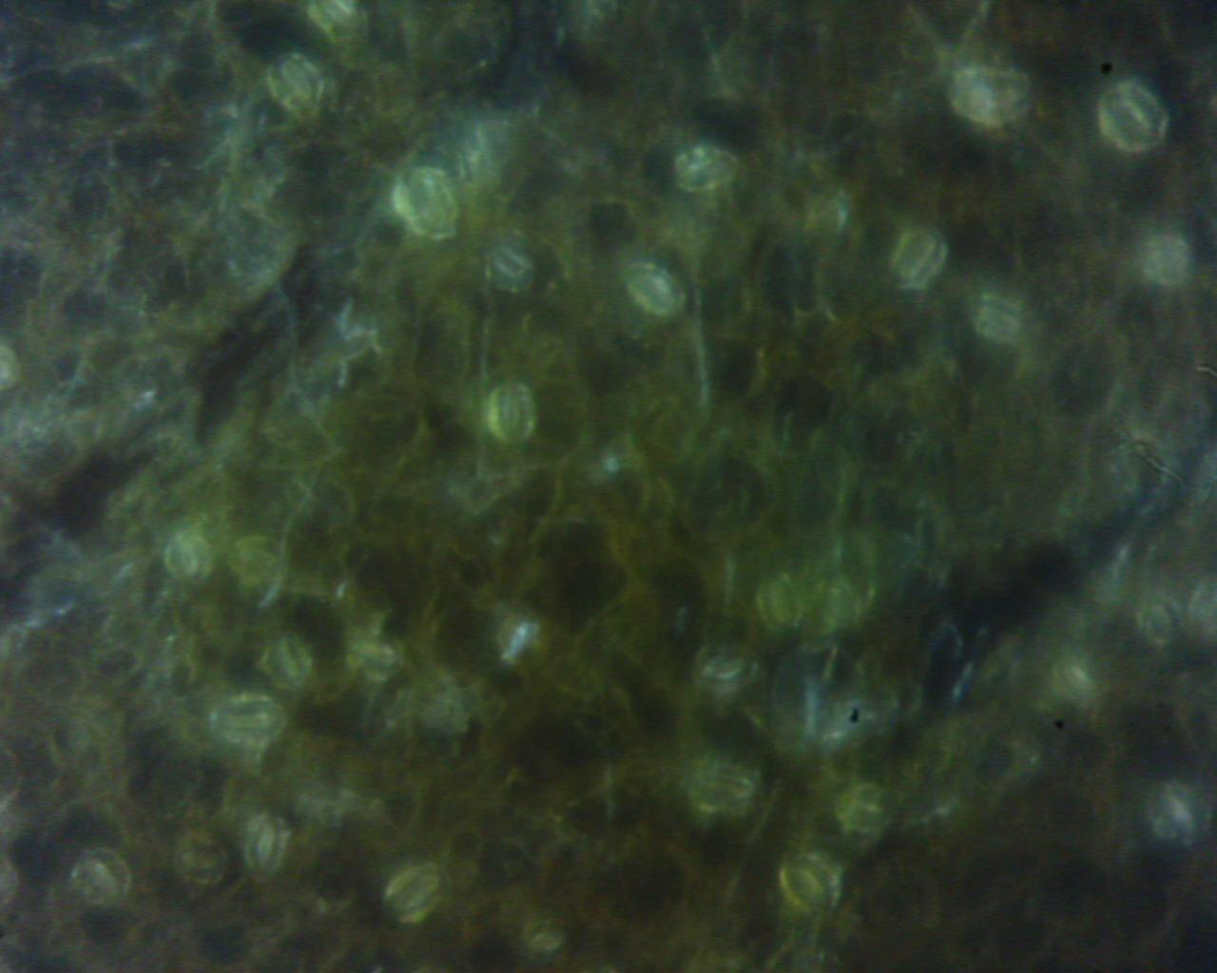stomata: (949, 70, 1028, 130), (215, 696, 290, 750), (690, 757, 760, 811), (406, 172, 455, 237), (675, 147, 738, 191), (279, 54, 322, 117), (230, 537, 286, 583), (1108, 93, 1159, 143), (248, 815, 289, 876), (893, 233, 938, 287), (972, 301, 1027, 343), (489, 387, 534, 438), (388, 870, 441, 913), (83, 852, 125, 903), (177, 840, 224, 885), (348, 635, 402, 674), (1158, 790, 1203, 835), (263, 638, 309, 682), (631, 268, 679, 310), (700, 639, 749, 679), (168, 536, 208, 584), (764, 578, 802, 628), (490, 243, 532, 287), (791, 861, 829, 909), (842, 790, 888, 828), (825, 577, 858, 625), (1148, 244, 1188, 282), (525, 925, 568, 958), (1144, 602, 1179, 640), (1061, 662, 1093, 696)
